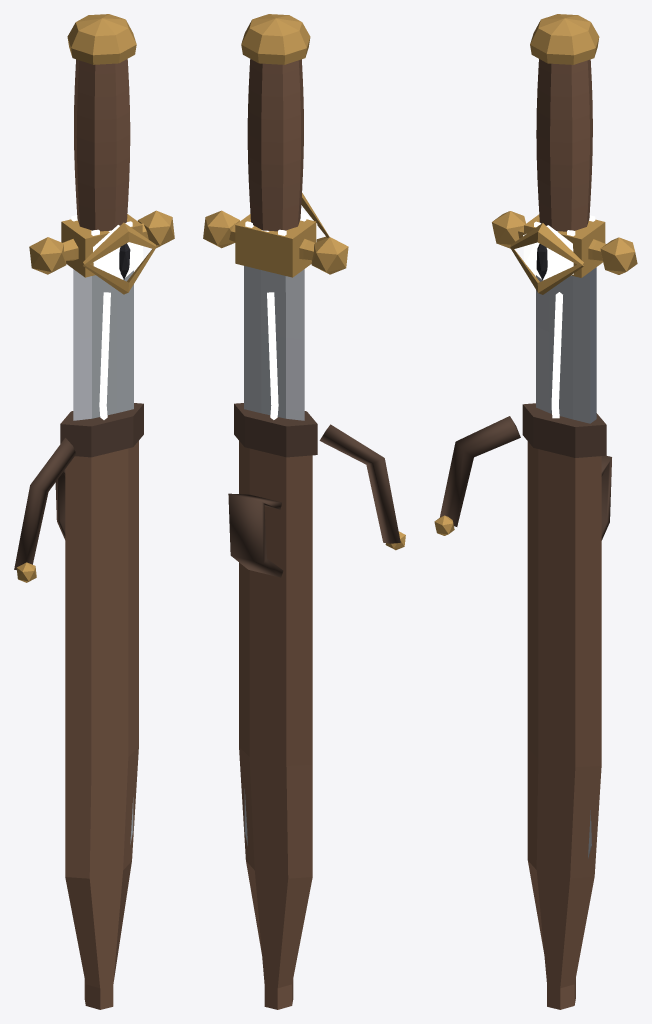
Rendered from blade-road-knife.glb.
3 renders of one model, left to right at view 1: azimuth 30°, elevation 25°; view 2: azimuth 150°, elevation 25°; view 3: azimuth 330°, elevation 25°, orthographic.
Parts seen in each view (by area): view 1: blade-road-knife, blink_eye, pulse_vein; view 2: blade-road-knife, pulse_vein; view 3: blade-road-knife, blink_eye, pulse_vein.
Boxes of the visible parts, x1,y1,x2,y2 form: blade-road-knife: (14,14,174,1009); blink_eye: (83,222,156,294); pulse_vein: (99,292,110,419); blade-road-knife: (203,14,405,1009); pulse_vein: (267,292,278,419); blade-road-knife: (434,14,637,1009); blink_eye: (510,223,583,294); pulse_vein: (551,292,562,418).
Size of the model in its own units: 0.2153 by 1.14 by 0.1225.
